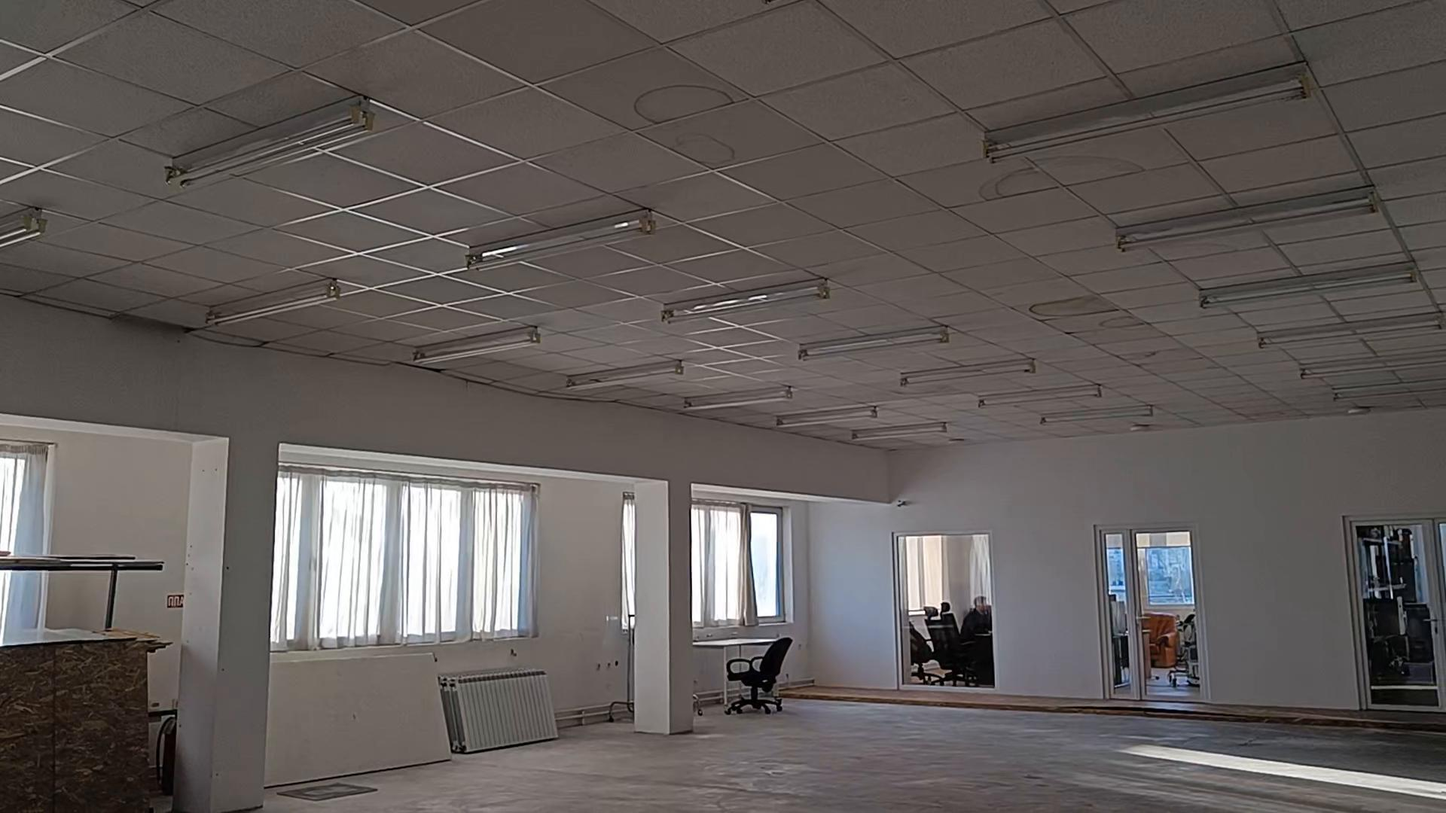ceiling: (0, 0, 1445, 446)
floor: (264, 699, 1445, 812)
wall: (3, 304, 1445, 808)
